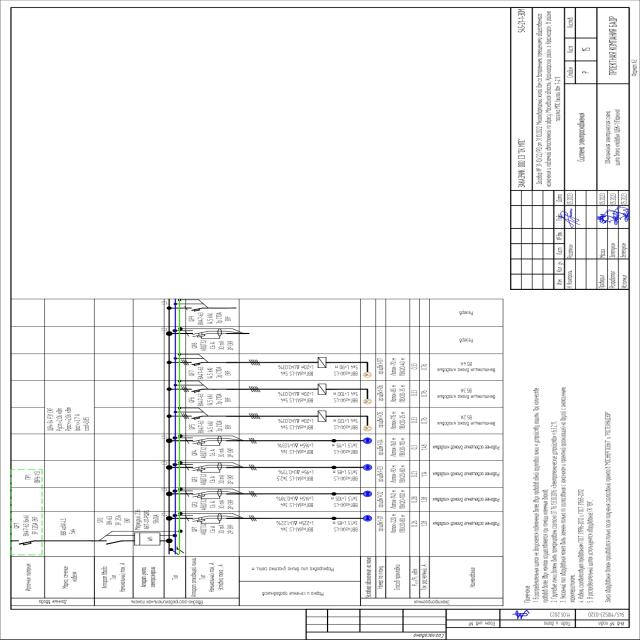-: (133, 510, 162, 530), (196, 393, 232, 407), (197, 366, 232, 380), (200, 498, 235, 512), (196, 421, 232, 434), (196, 313, 232, 326), (199, 473, 234, 486), (200, 339, 234, 352), (200, 446, 234, 459), (200, 523, 234, 536), (105, 515, 132, 526), (46, 408, 55, 431)
QF: (188, 413, 204, 420), (189, 387, 204, 394), (188, 361, 204, 367), (188, 306, 202, 312)
QFD: (189, 488, 223, 501), (190, 326, 224, 339), (189, 436, 223, 448), (190, 462, 224, 474), (190, 512, 223, 524)
QS: (103, 538, 123, 545)
WH: (132, 532, 162, 546)
